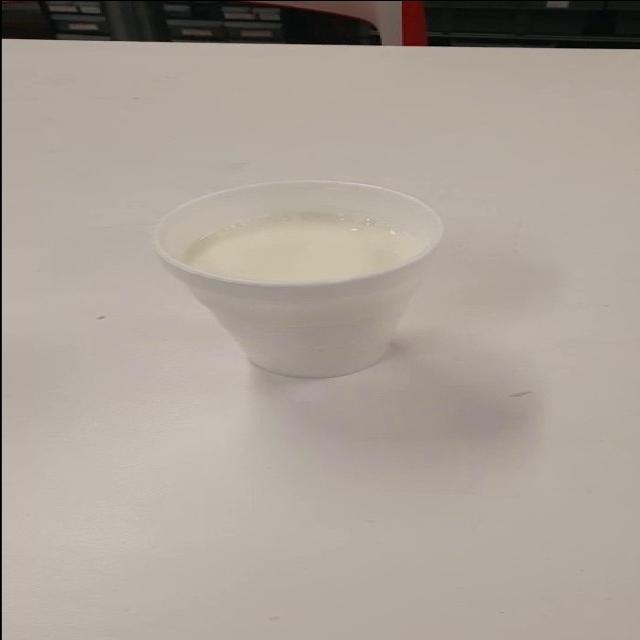Milk: (112, 160, 515, 412)
